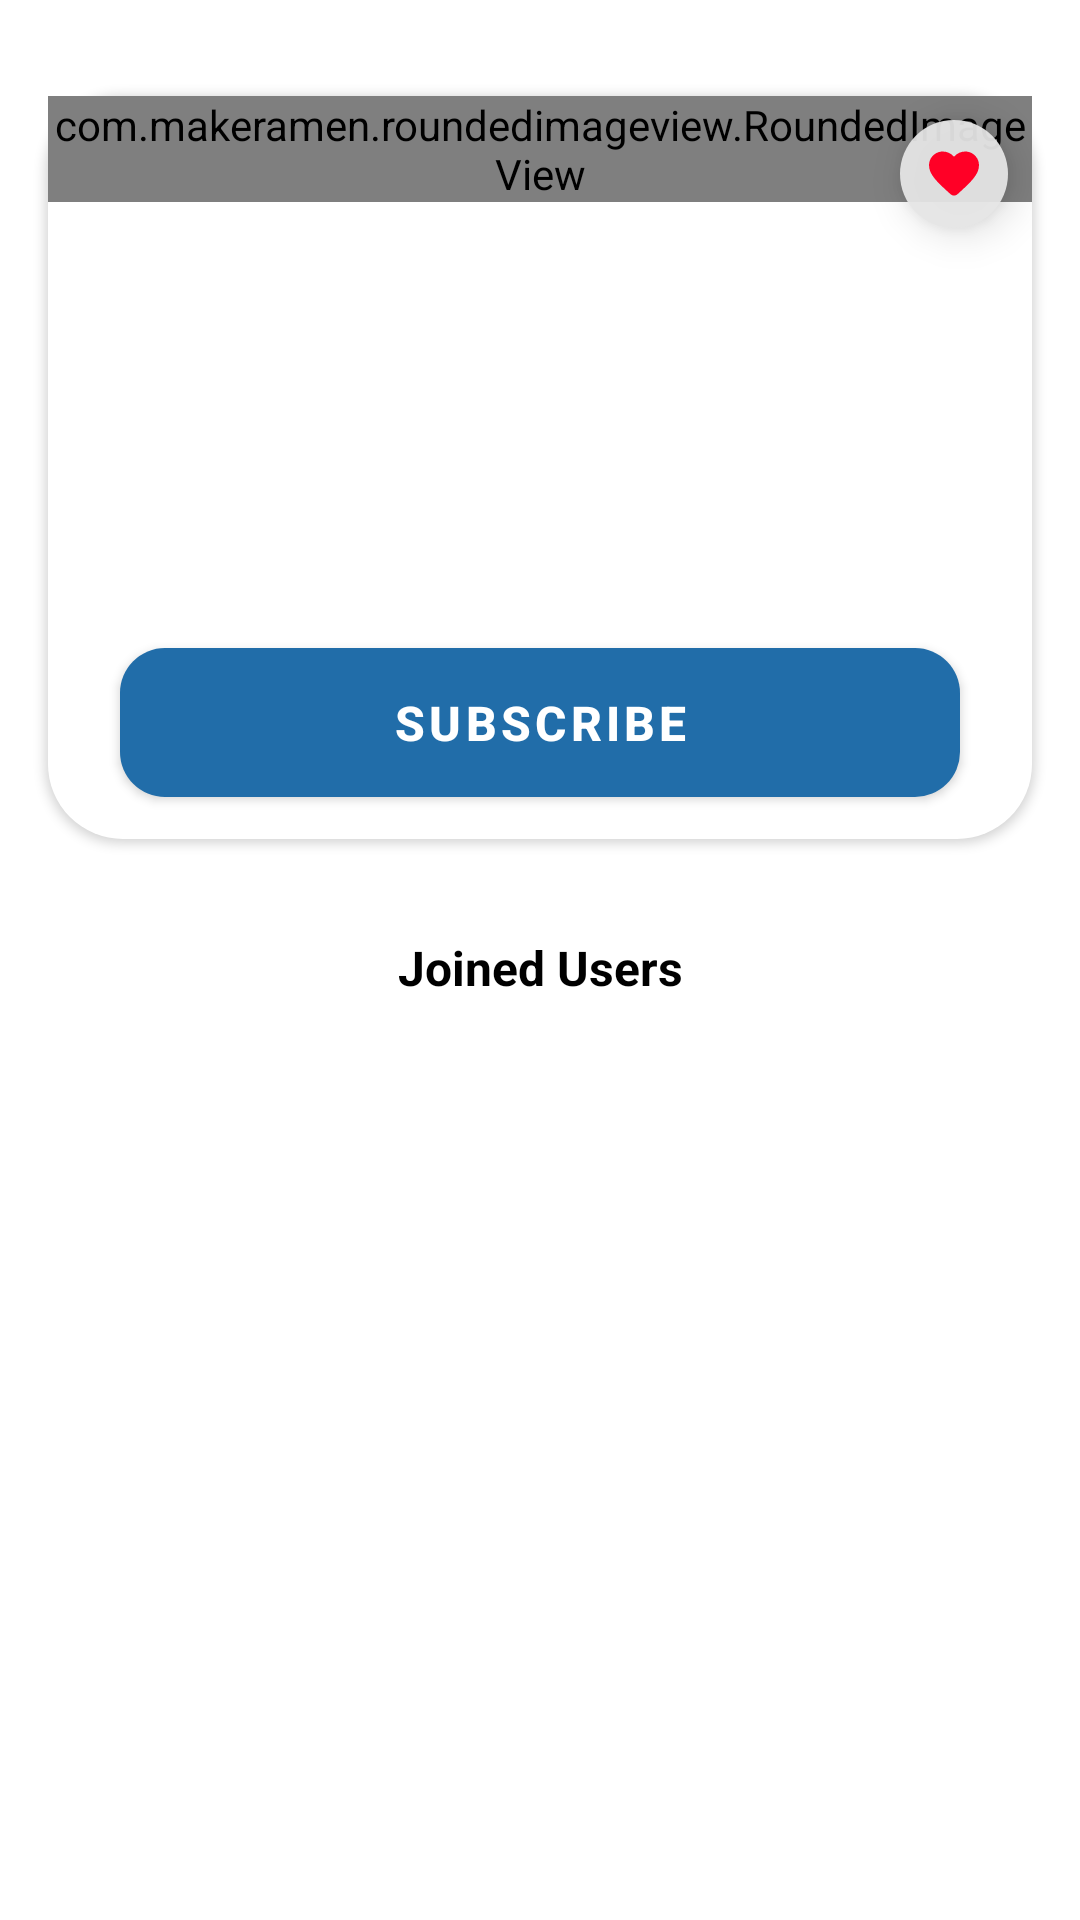

Point at icon controls on the screen. Image size 1080x1920, points as (x,y).
favorite: (954,173)
